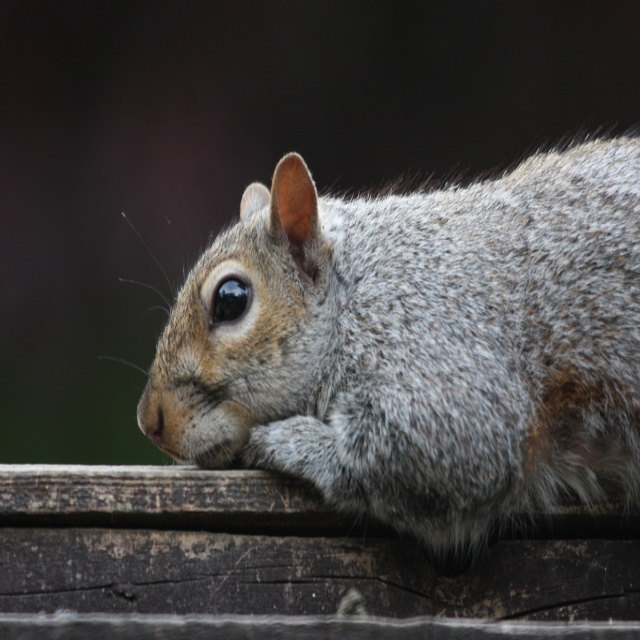Squirrel: (98, 122, 640, 569)
